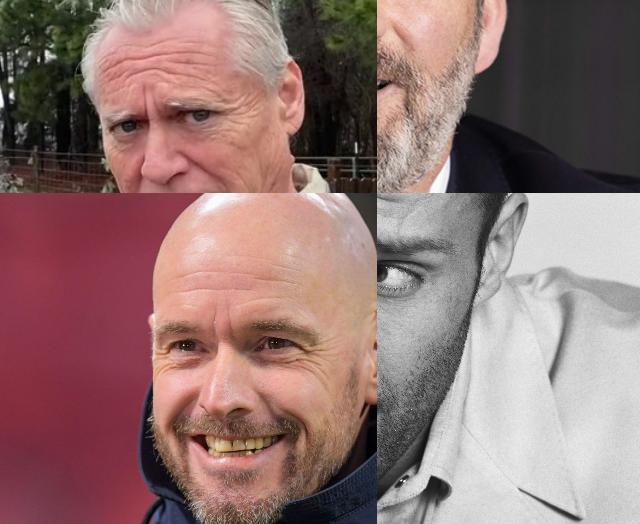crows_feet: (219, 96, 251, 124), (302, 340, 326, 370), (156, 346, 174, 371)
forehead: (167, 42, 200, 82), (132, 46, 160, 80), (100, 53, 126, 89), (253, 268, 291, 288), (171, 267, 207, 283), (377, 193, 401, 215), (215, 282, 247, 298), (182, 284, 210, 296)
frown_line: (136, 94, 156, 120), (207, 306, 221, 338), (224, 309, 236, 335)
gummy_smile: (183, 150, 215, 182), (168, 393, 194, 423), (391, 23, 414, 52)
sad_smile: (287, 408, 313, 438)
